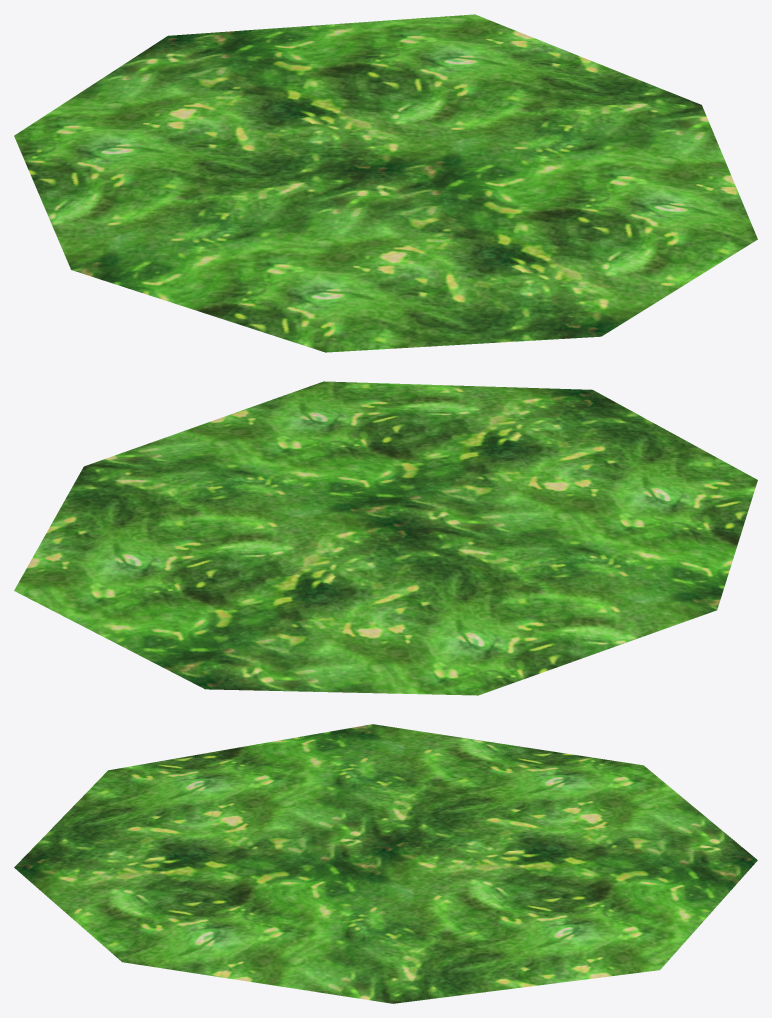
File: toxic_puddle_4.fbx
3 views of the same model, one above another, from view 1: azimuth 30°, elevation 25°; view 2: azimuth 150°, elevation 25°; view 3: azimuth 270°, elevation 25° (orthographic). The views are drawn at different scales.
Parts seen in each view (by area): view 1: polySurface55; view 2: polySurface55; view 3: polySurface55.
Part boxes in pixels (bbox=[...]): polySurface55: bbox=[14, 14, 757, 352]; polySurface55: bbox=[14, 381, 757, 695]; polySurface55: bbox=[14, 724, 757, 1003].
Size of the model in its own units: 7.63 by 0.1875 by 8.57.
